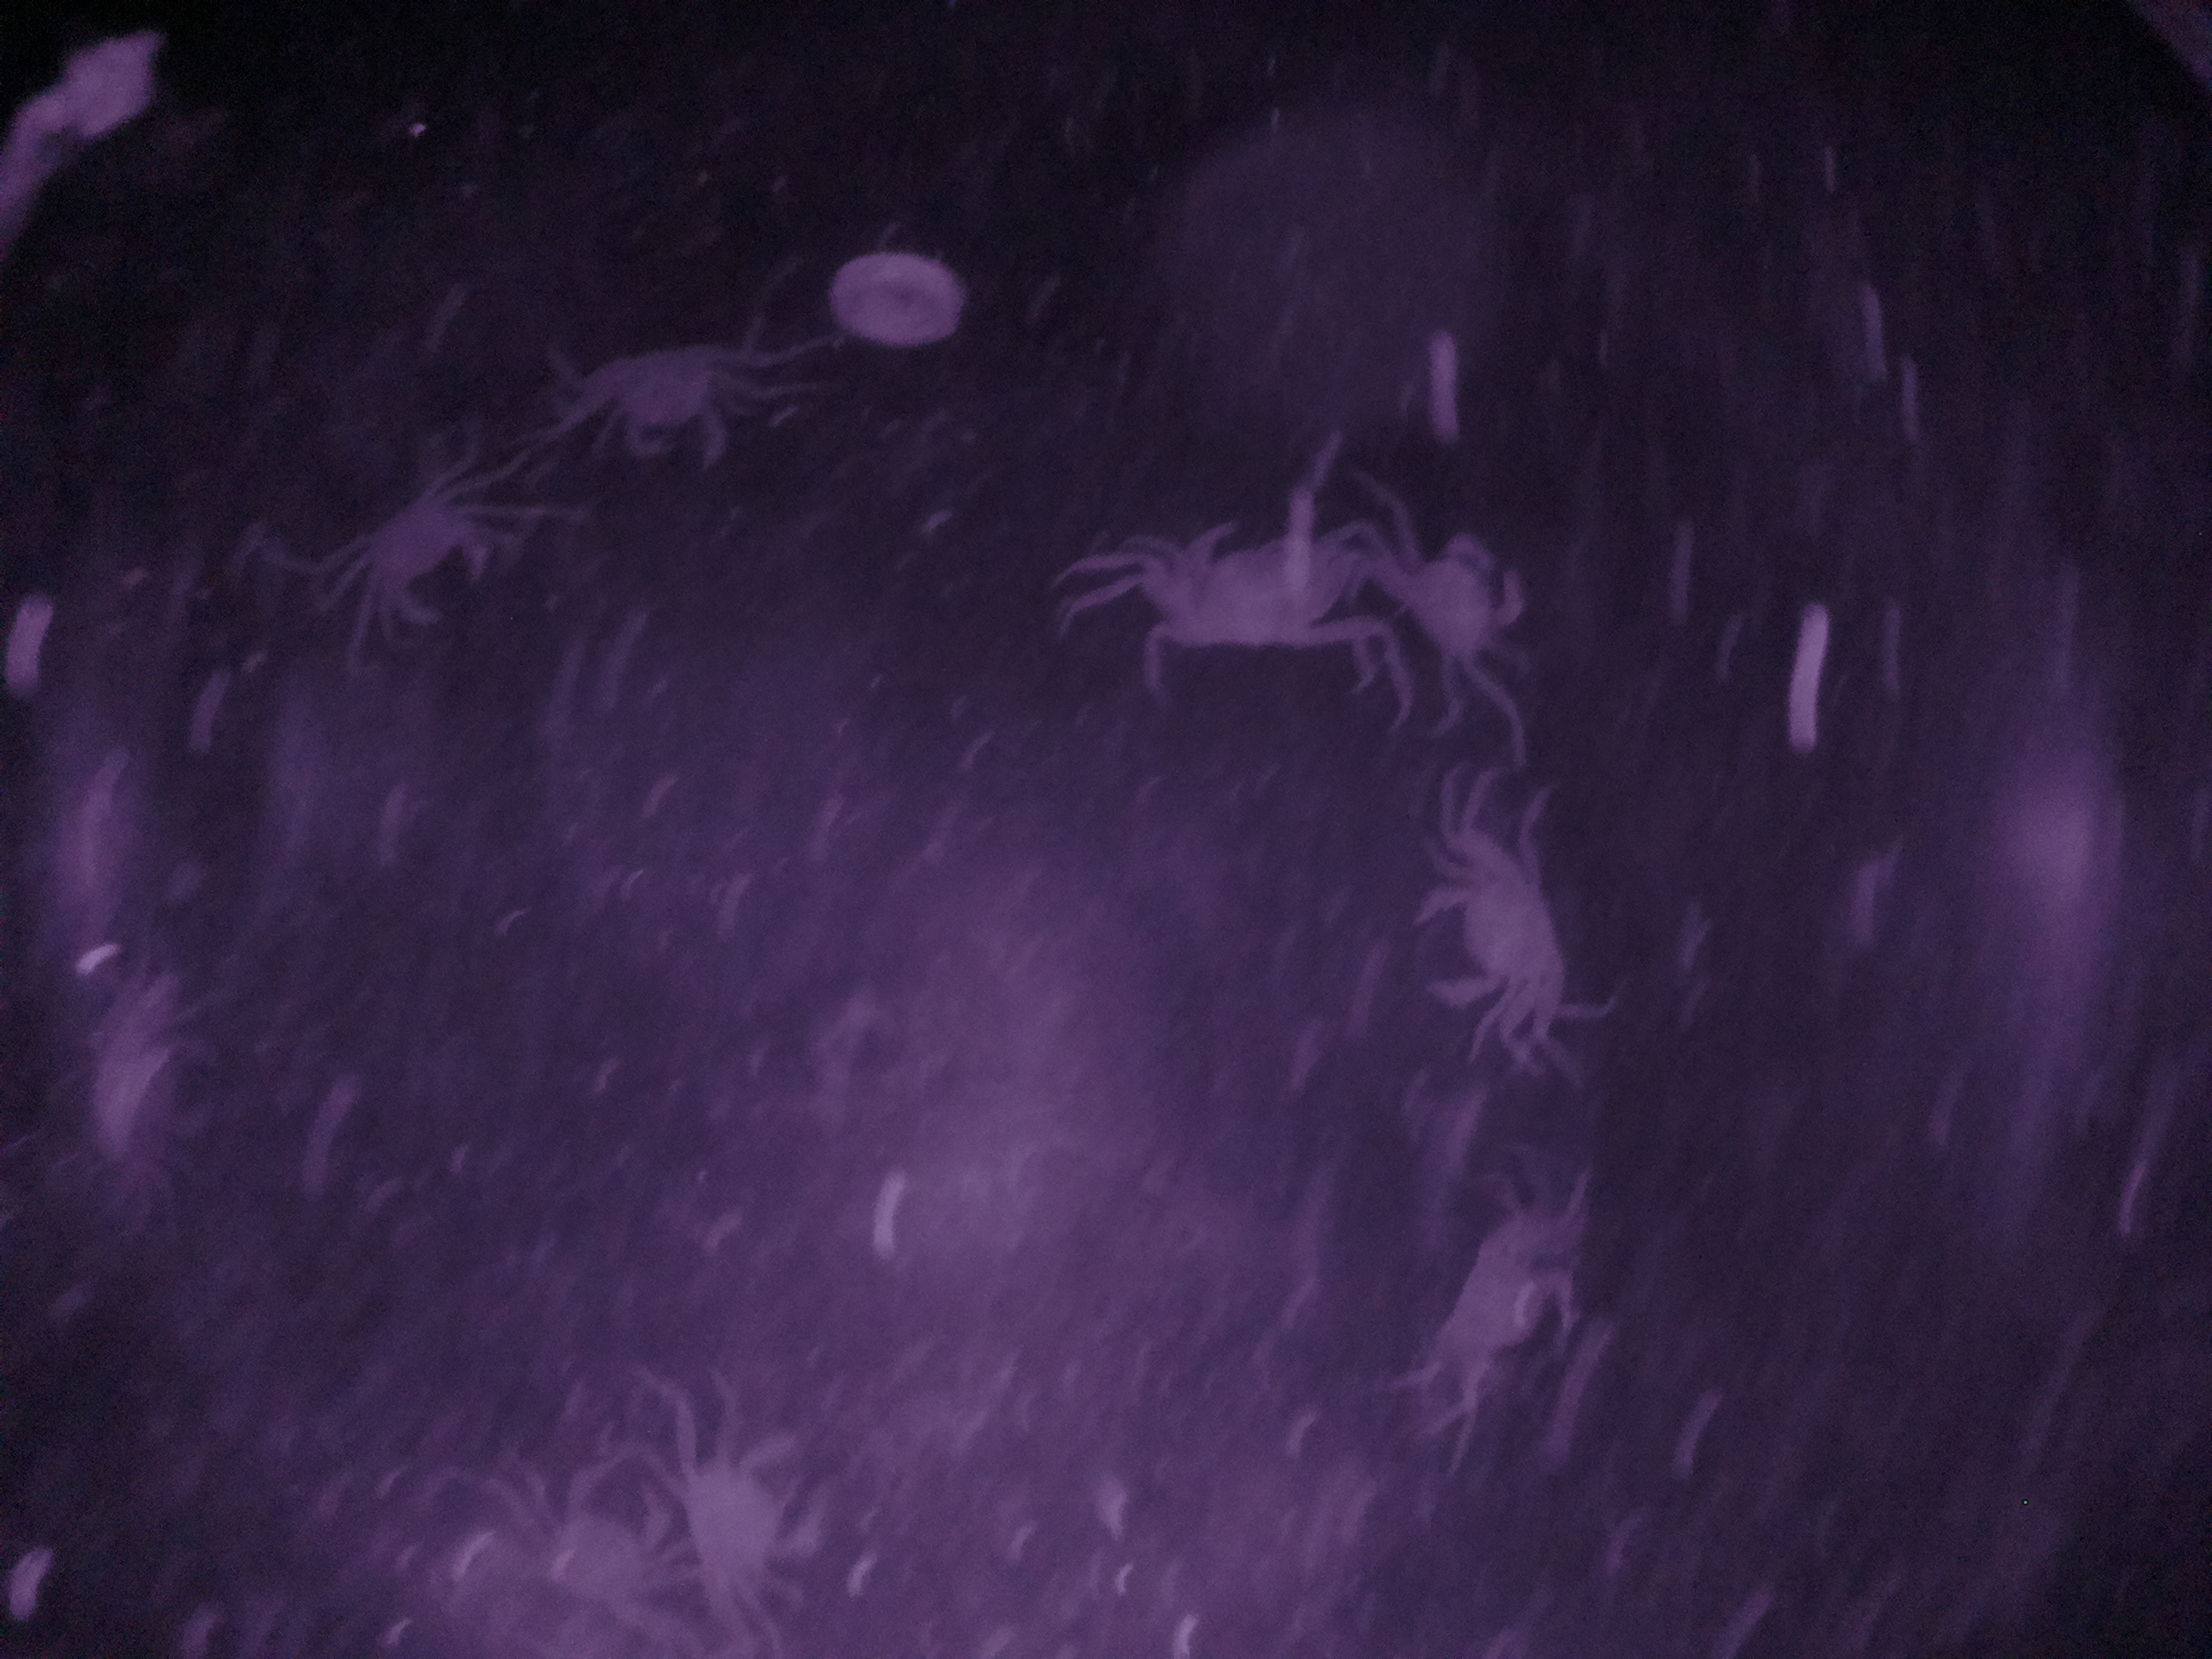Crab: (1397, 821, 1599, 1054)
